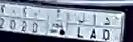0: (31, 9, 40, 33), (10, 9, 17, 32)
2: (20, 5, 28, 33), (0, 3, 7, 31)
A: (90, 14, 98, 42)
D: (103, 16, 111, 41)
L: (76, 12, 86, 39)
